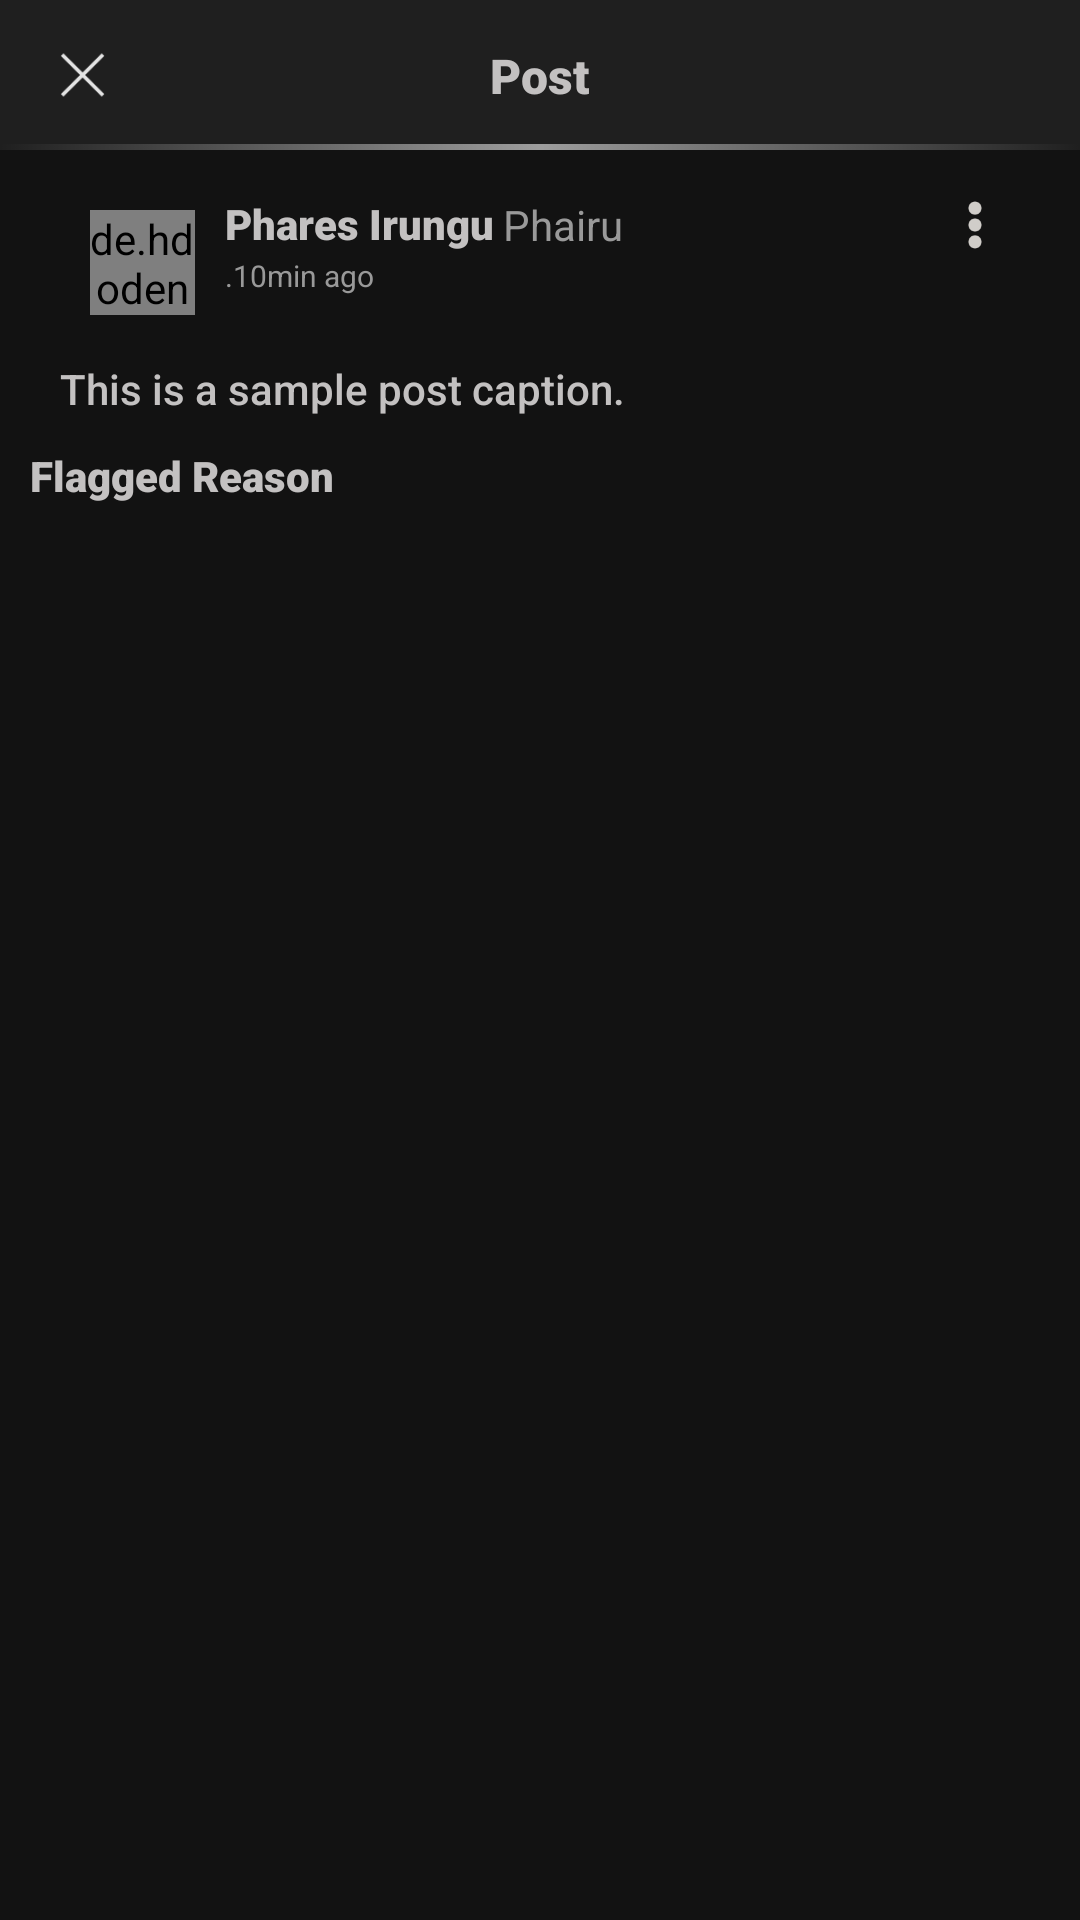

Named icons in this screenshot (1080x1920) and their centers, [x,y]:
cancel: [82,75]
vertical: [975,225]
